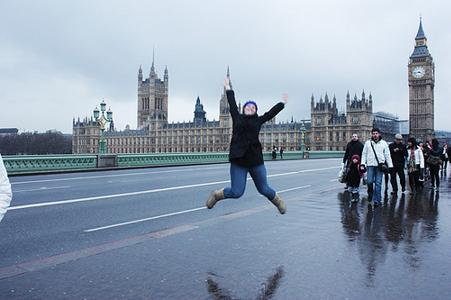person: (206, 77, 291, 217)
